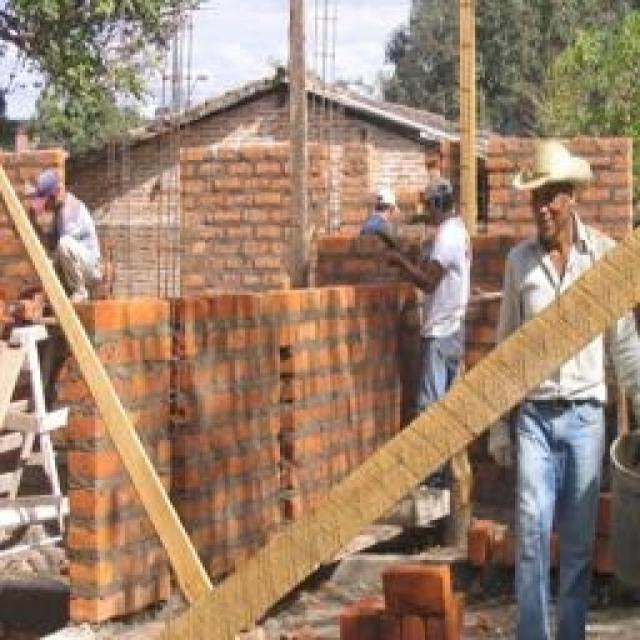Helmet: (505, 218, 640, 448), (421, 220, 491, 346), (501, 130, 605, 212), (46, 194, 104, 290), (22, 164, 80, 216), (406, 166, 460, 219), (344, 209, 406, 248), (370, 170, 408, 217)
